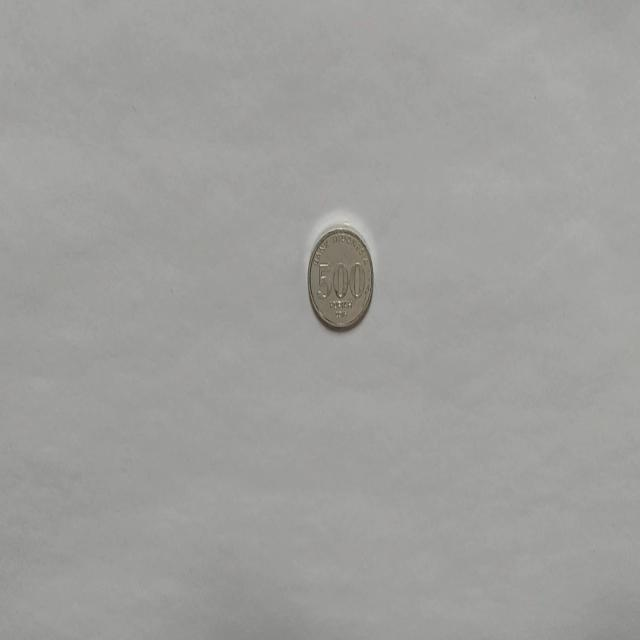lima ratus rupiah: (306, 223, 374, 331)
